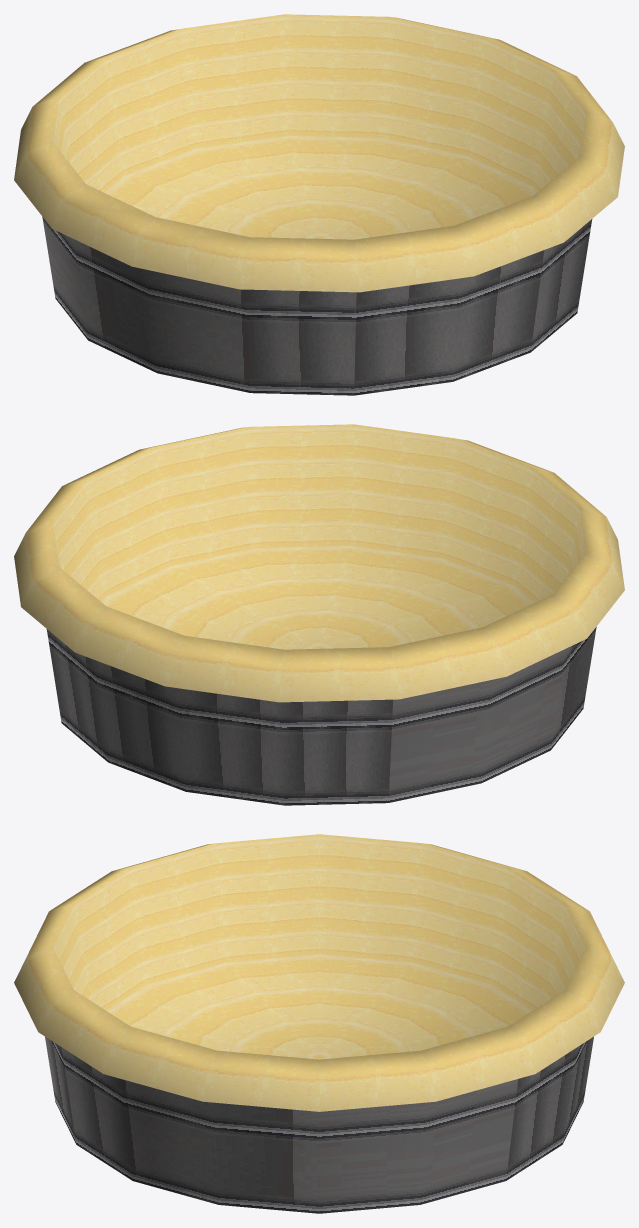
The model's file is 1130item601.gltf.
3 views of the same model, one above another, from view 1: azimuth 30°, elevation 25°; view 2: azimuth 150°, elevation 25°; view 3: azimuth 270°, elevation 25° (orthographic).
Parts seen in each view (by area): view 1: 1130item601; view 2: 1130item601; view 3: 1130item601.
Part boxes in pixels (x1=…): 1130item601: x1=14, y1=14, x2=624, y2=395; 1130item601: x1=14, y1=424, x2=624, y2=805; 1130item601: x1=14, y1=834, x2=624, y2=1213.
Bounding box in the file's own units: 0.7417 × 0.208 × 0.7417.
2 materials, 2 textured.
